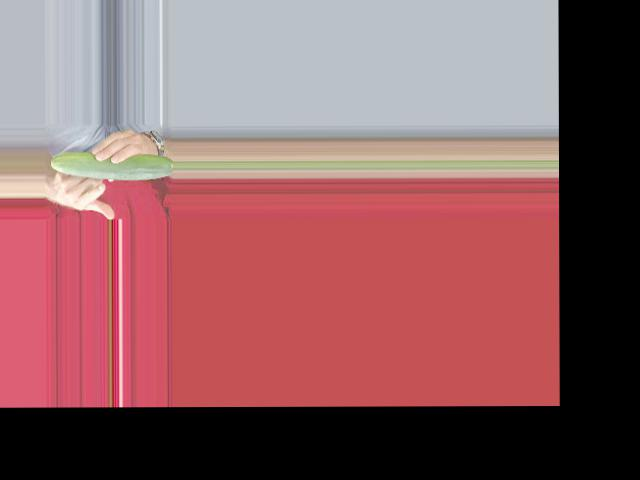cucumber: (51, 150, 173, 180)
